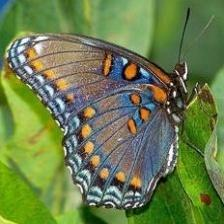butterfly: (4, 32, 192, 208)
